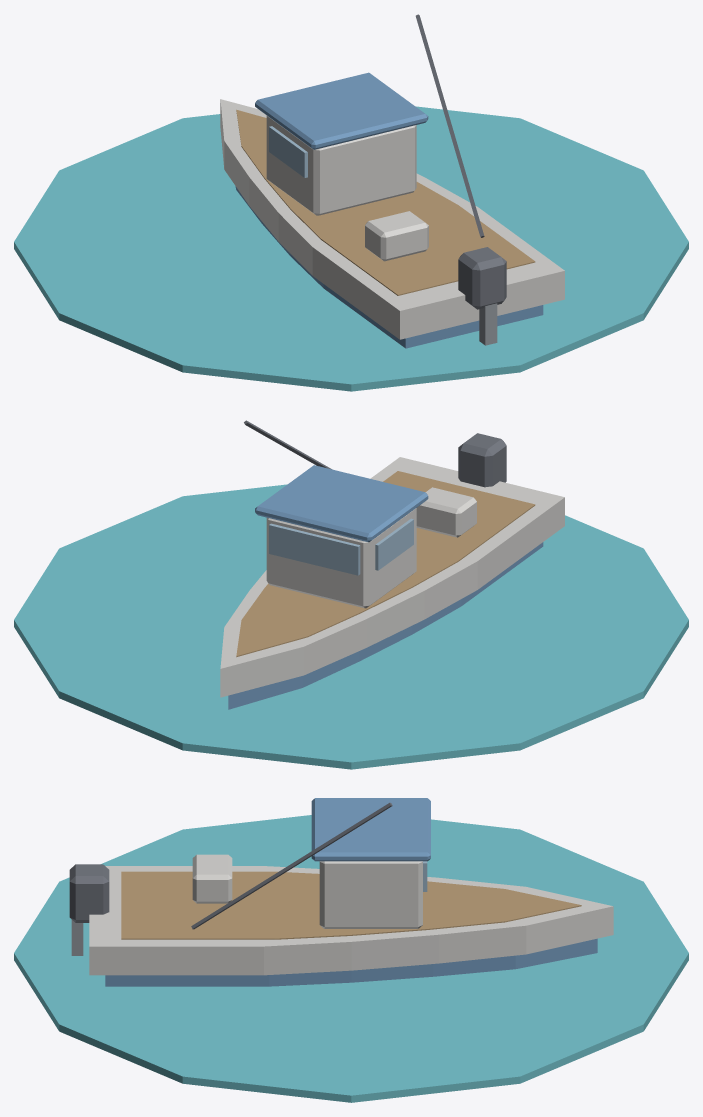
Rendered from beira_rio__barco_pesca.glb.
3 renders of one model, top to bottom at view 1: azimuth 30°, elevation 25°; view 2: azimuth 150°, elevation 25°; view 3: azimuth 270°, elevation 25°, orthographic.
Visible parts, largest first — view 1: beira_rio__barco_pesca; view 2: beira_rio__barco_pesca; view 3: beira_rio__barco_pesca.
Boxes of the visible parts, x1=… form: beira_rio__barco_pesca: x1=14, y1=14, x2=688, y2=391; beira_rio__barco_pesca: x1=14, y1=420, x2=688, y2=769; beira_rio__barco_pesca: x1=14, y1=798, x2=688, y2=1102.
Size of the model in its own units: 1.7 by 0.5947 by 1.7.
